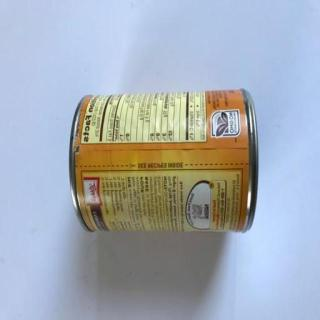Anorganik: (60, 72, 269, 246)
